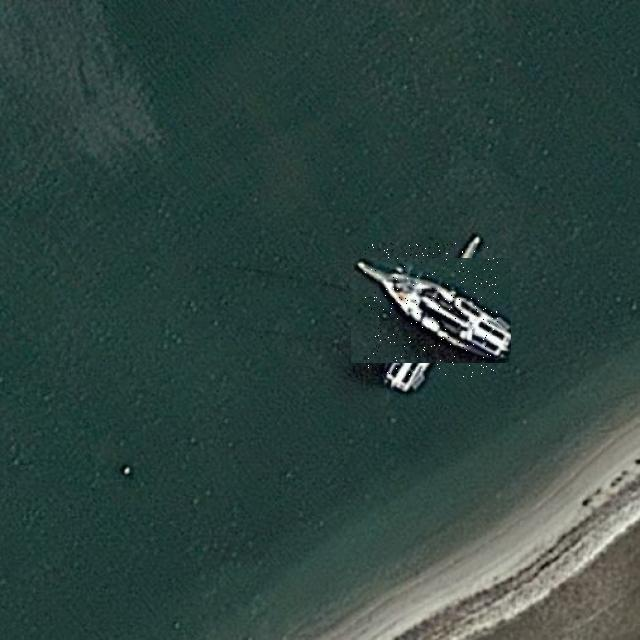boat: (365, 243, 498, 377)
